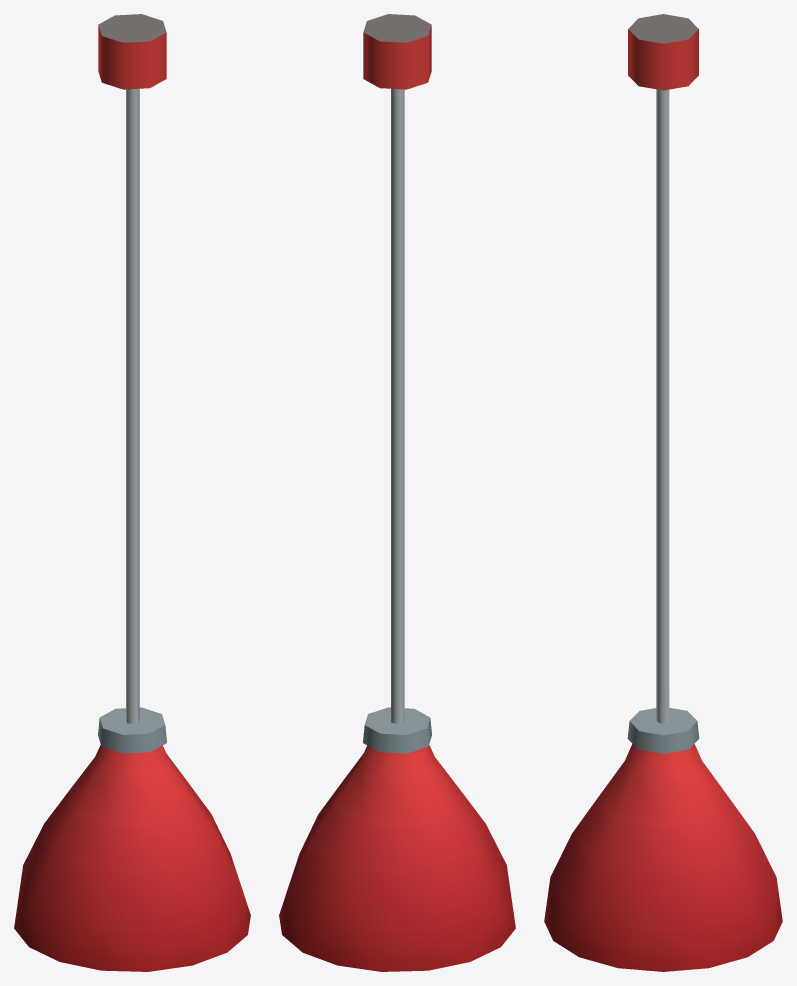
The model's file is Lamp_05.glb.
3 views of the same model, side by side, from view 1: azimuth 30°, elevation 25°; view 2: azimuth 150°, elevation 25°; view 3: azimuth 270°, elevation 25° (orthographic).
Parts seen in each view (by area): view 1: Lamp_05; view 2: Lamp_05; view 3: Lamp_05.
Part boxes in pixels (left/top/right/bottom): Lamp_05: left=14, top=14, right=250, bottom=971; Lamp_05: left=279, top=14, right=515, bottom=971; Lamp_05: left=544, top=14, right=782, bottom=971.
Size of the model in its own units: 0.8198 by 3.38 by 0.8198.
Materials: 2 (2 with a texture image).
